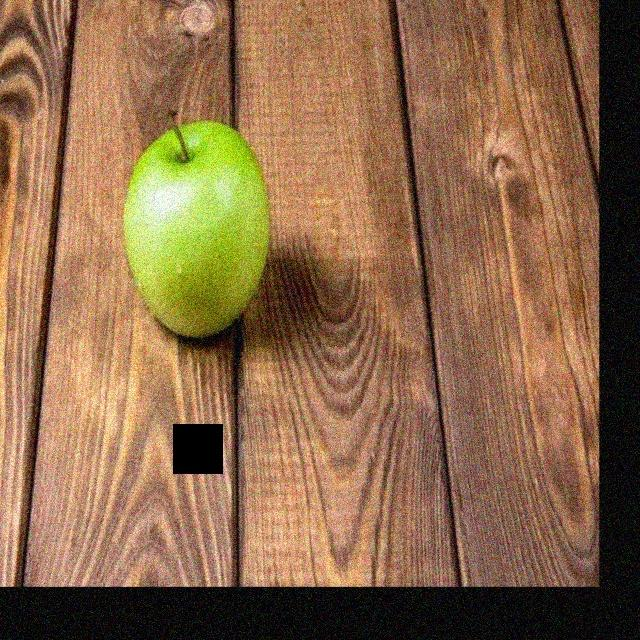green apple: (123, 113, 286, 341)
